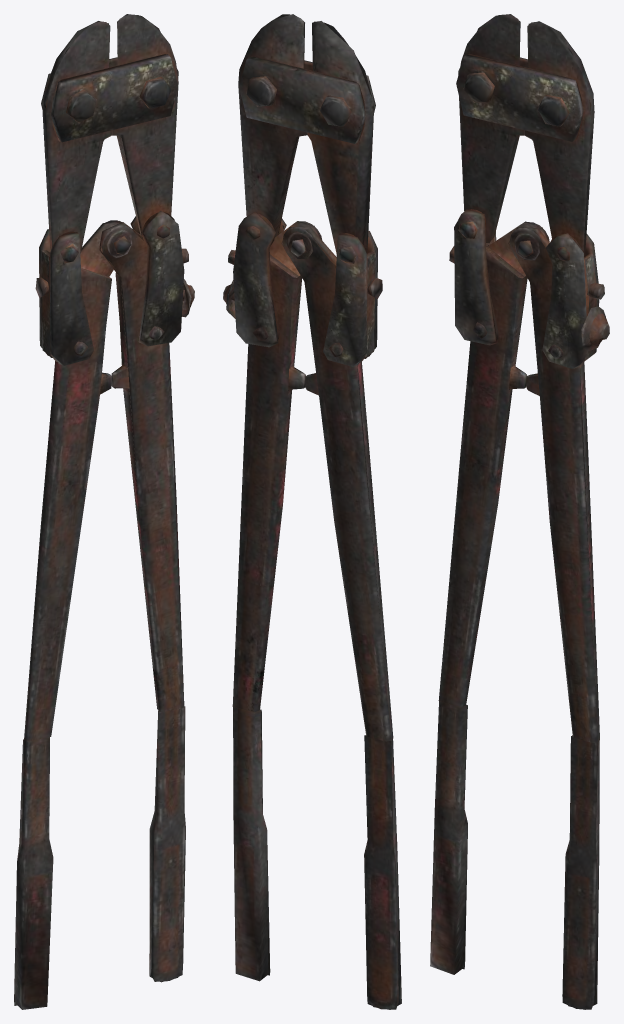
Rendered from bolt_cutters_01.glb.
The picture shows the model from 3 angles, left to right: view 1: azimuth 30°, elevation 25°; view 2: azimuth 150°, elevation 25°; view 3: azimuth 330°, elevation 25°; orthographic projection.
Visible parts, largest first — view 1: bolt_cutters_01; view 2: bolt_cutters_01; view 3: bolt_cutters_01.
Boxes of the visible parts, x1,y1,x2,y2 form: bolt_cutters_01: [14, 14, 194, 1009]; bolt_cutters_01: [223, 14, 401, 1009]; bolt_cutters_01: [430, 14, 609, 1009].
Bounding box in the file's own units: 0.1514 × 0.8036 × 0.036.
Materials: 1 (1 with a texture image).
